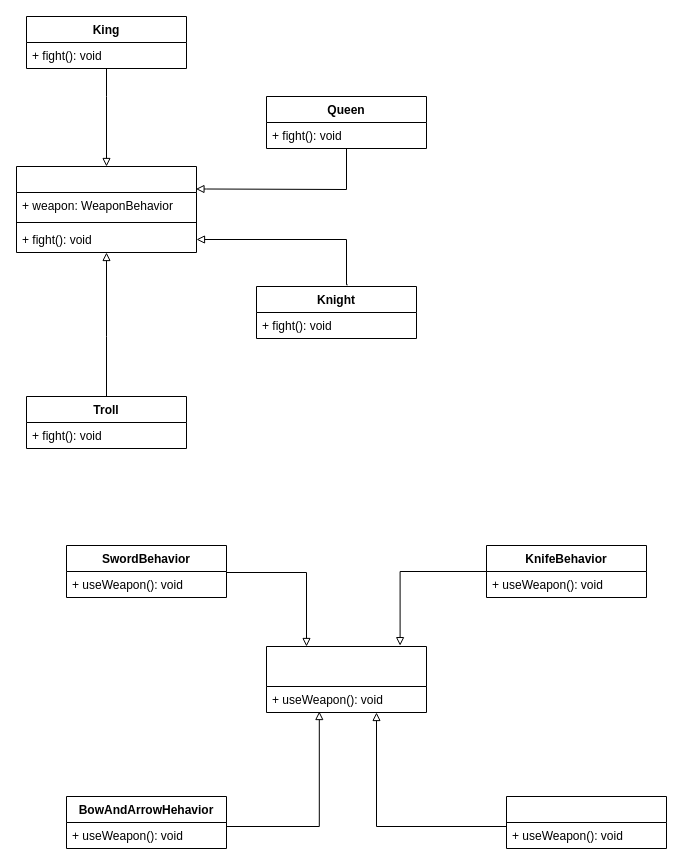
Image size: 683x865. Some labels were removed from this diagram. Here are the shapes that lost their labels. From the top down, the box of each, then its label:
(16, 166, 196, 252): Character
(266, 646, 426, 712): «interface» WeaponBehavior
(506, 796, 666, 848): AxeBehavior
